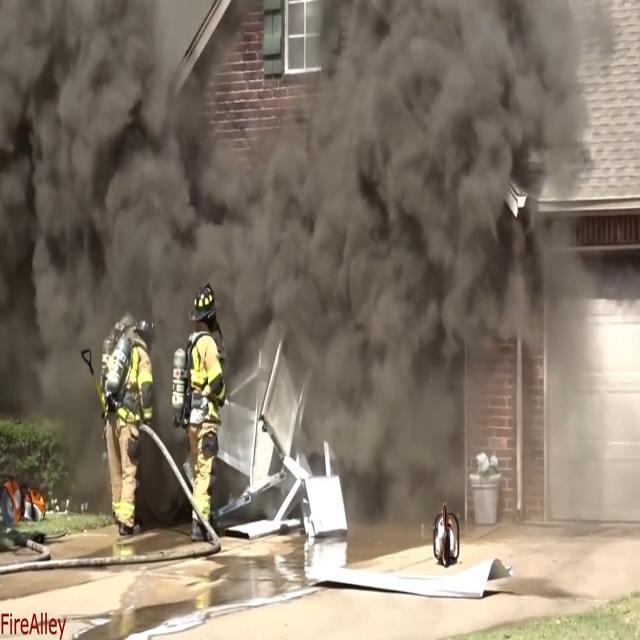Smoke: (288, 62, 578, 398), (20, 15, 222, 286)
